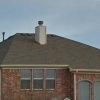Chimney: (29, 15, 57, 46)
